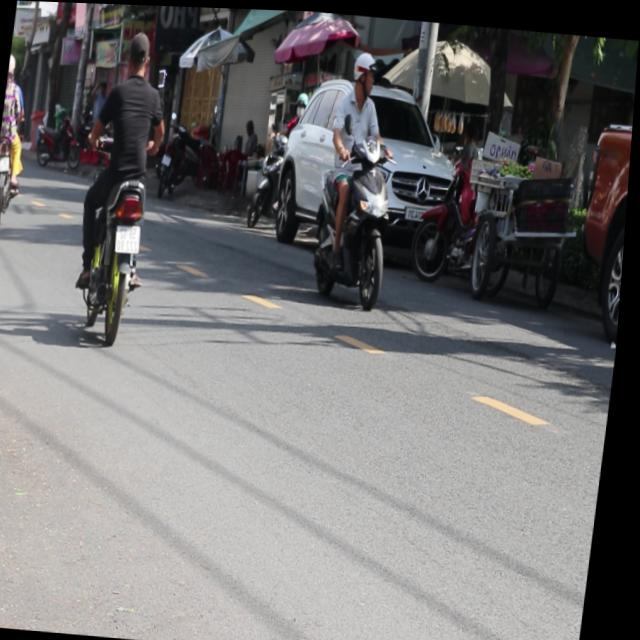helmet: (350, 45, 380, 97), (8, 52, 18, 81)
licenseplate: (68, 23, 177, 342), (308, 42, 414, 307), (0, 51, 39, 224)
motorcyclist: (126, 28, 155, 76)
nohelmet: (118, 222, 145, 252), (0, 154, 13, 171)
